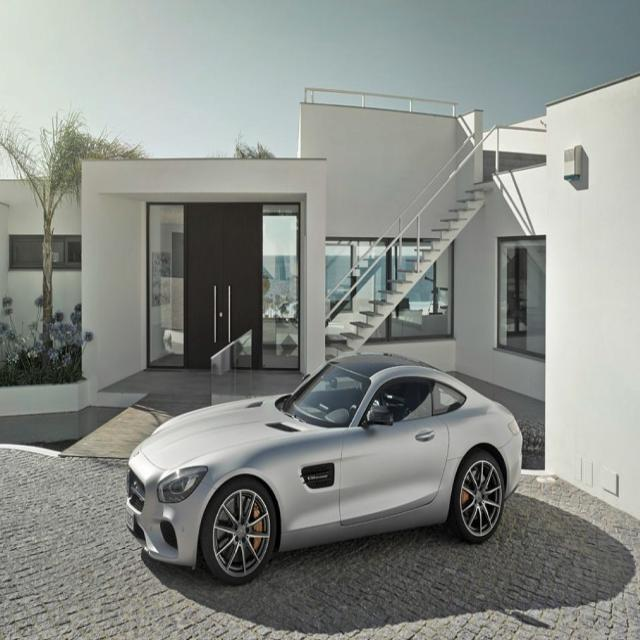back_left_side_light: (508, 416, 522, 437)
front_bumper: (126, 447, 216, 568)
front_glass: (284, 361, 372, 427)
front_left_side_door: (338, 374, 450, 529)
front_left_side_light: (156, 462, 208, 505)
front_left_side_mirror: (367, 403, 394, 428)
rear_bumper: (498, 432, 524, 499)
wheel: (203, 477, 276, 583), (453, 449, 505, 544)
